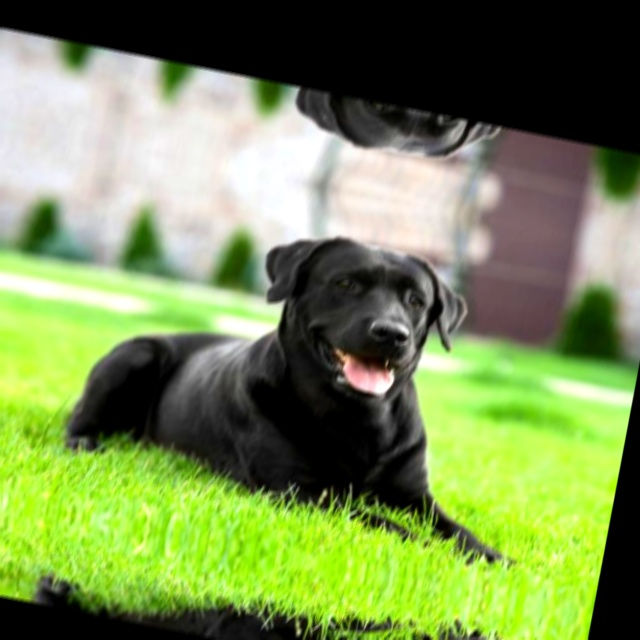dog: (30, 171, 498, 531), (94, 49, 521, 190), (2, 561, 425, 640)
